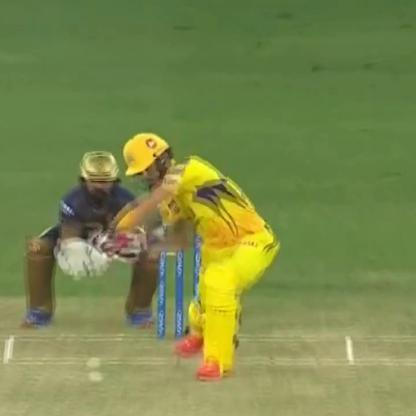ball: (80, 353, 107, 370), (83, 369, 109, 386)
pitch: (0, 315, 415, 415)
